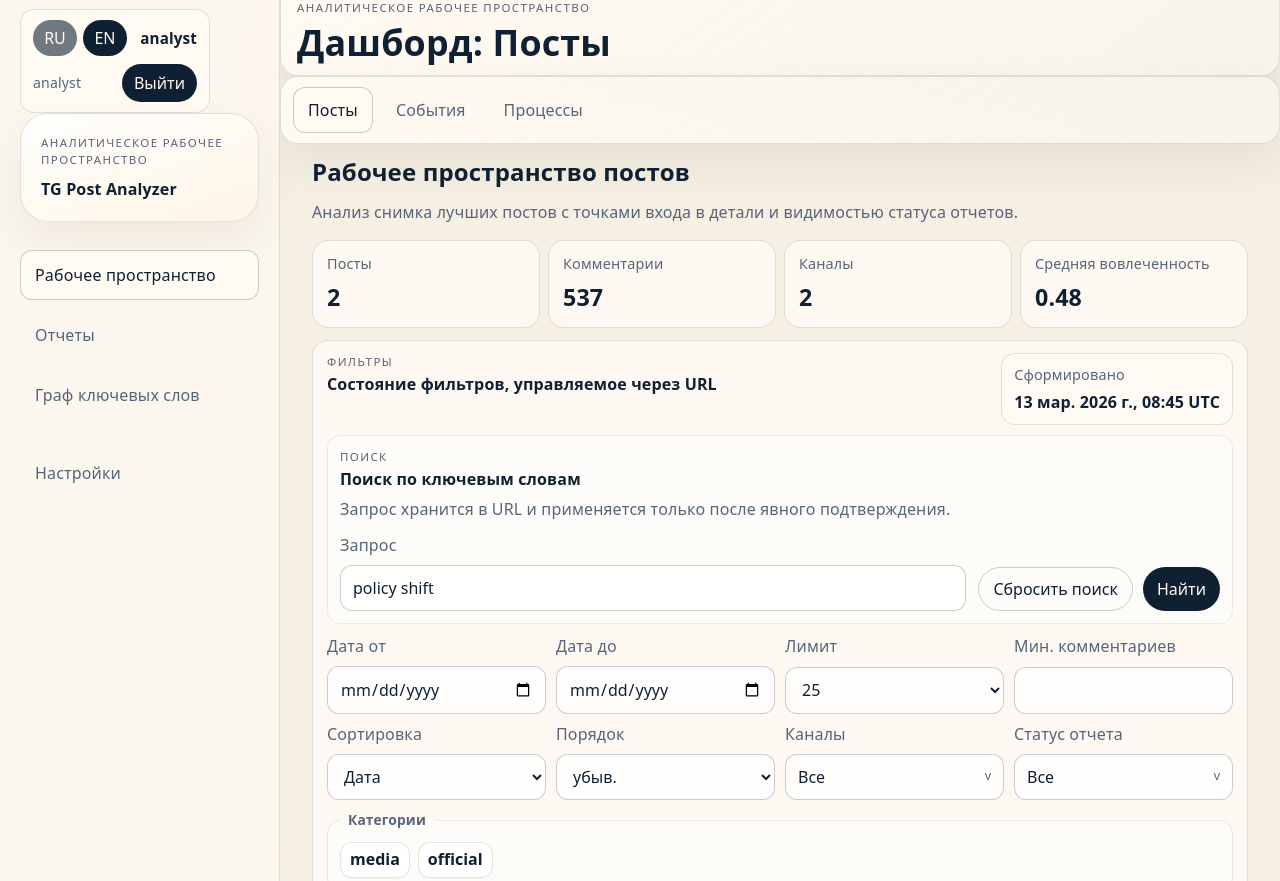
Scenario: Posts dashboard › restores keyword search query from URL and clears it with reset search
Expected: the search field showing "policy shift" is shown, [340,565,966,611]
Expected: the text "Secondary row validates dense table layout" is not shown
Click the button "Сбросить поиск": (1056, 589) [978,567,1133,611]
(page scrolled)
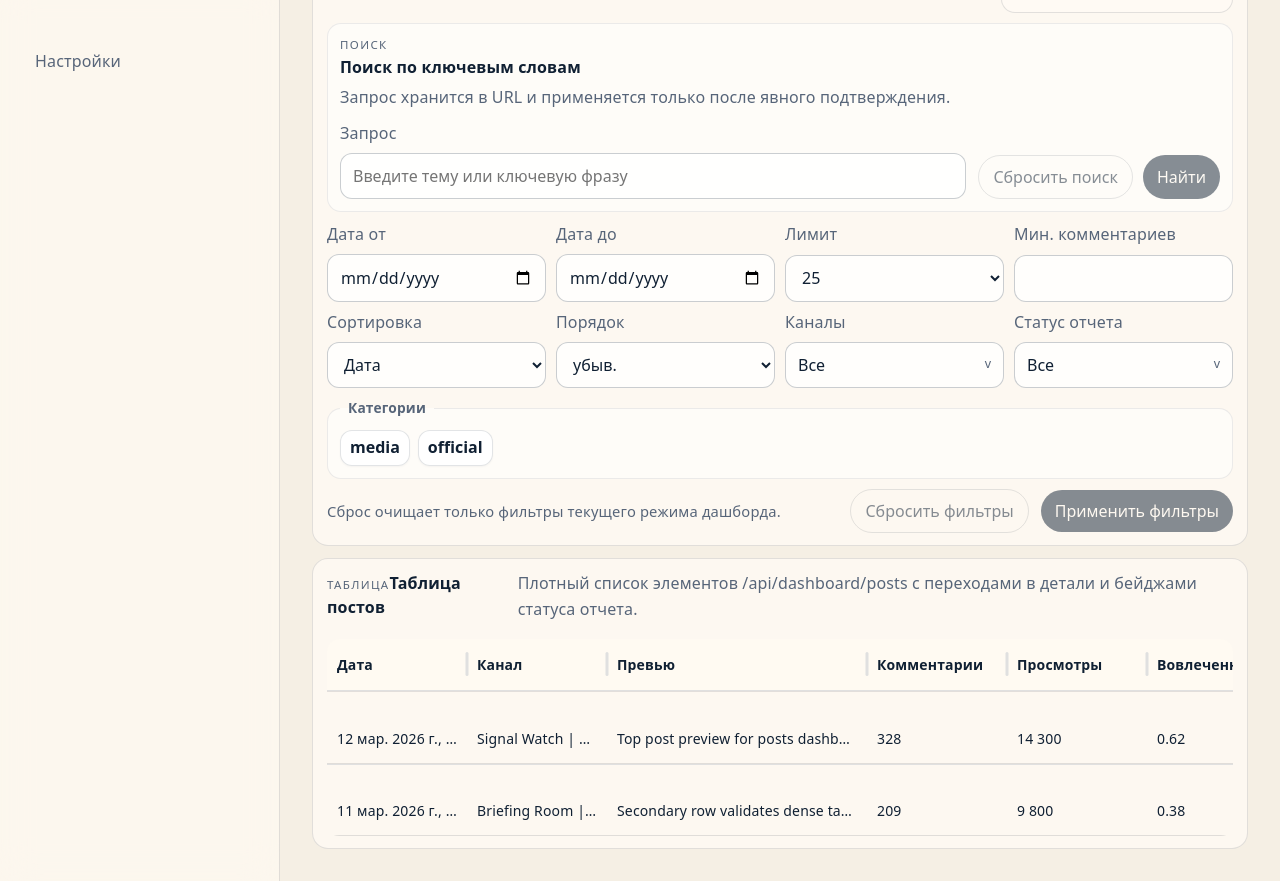
Expected: the search field labelled "Запрос" is empty, [340,153,966,199]
Expected: the text "Secondary row validates dense table layout." is shown, [607,764,867,836]
